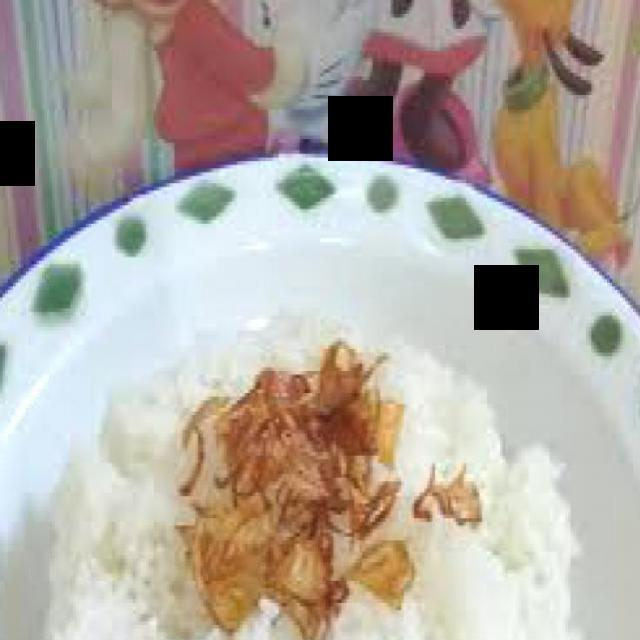rice: (37, 310, 569, 640)
